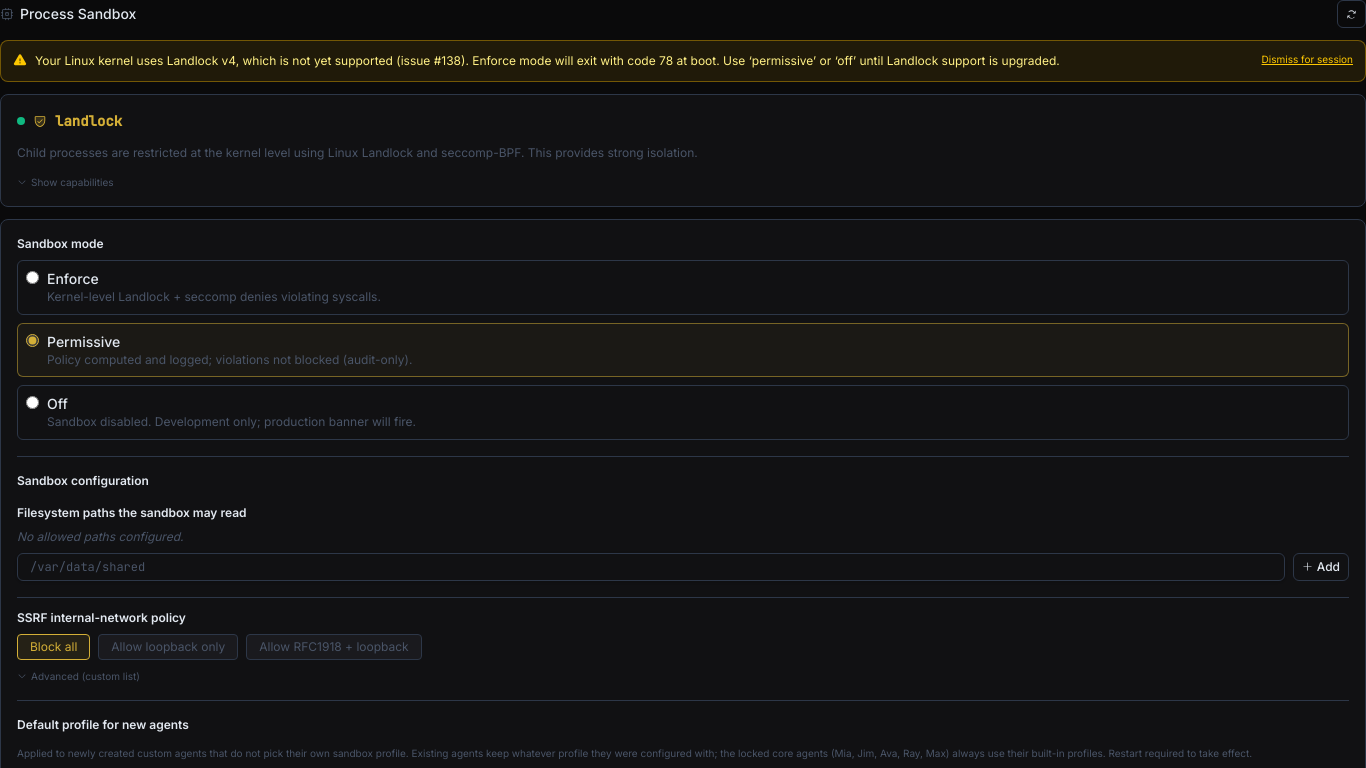
Test: ABI v4 surfaces › dismiss button stores sessionStorage key and hides banner
The image size is (1366, 768).
Expected: the message is shown, [0, 40, 1365, 82]
Click the button "Dismiss for session" at (1307, 59), box [1262, 51, 1353, 67]
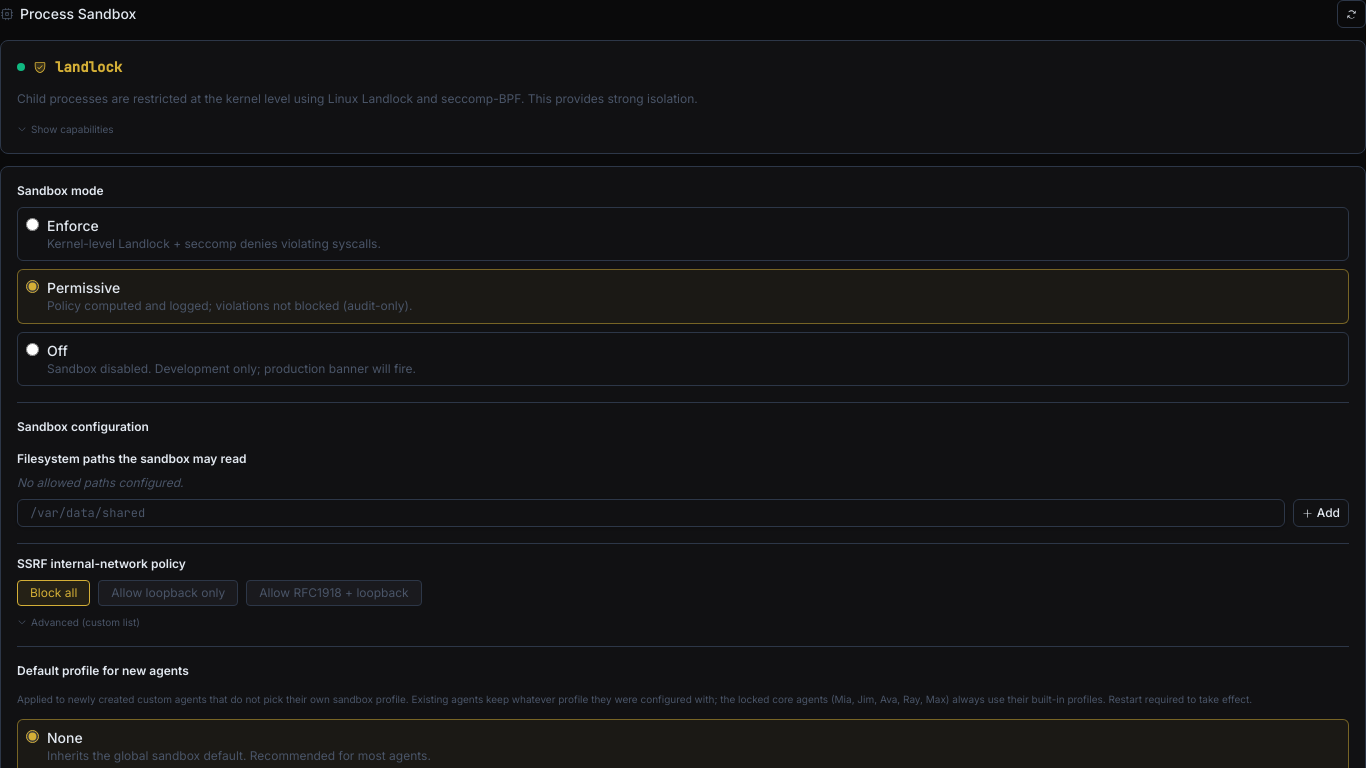
Expected: the message is gone
